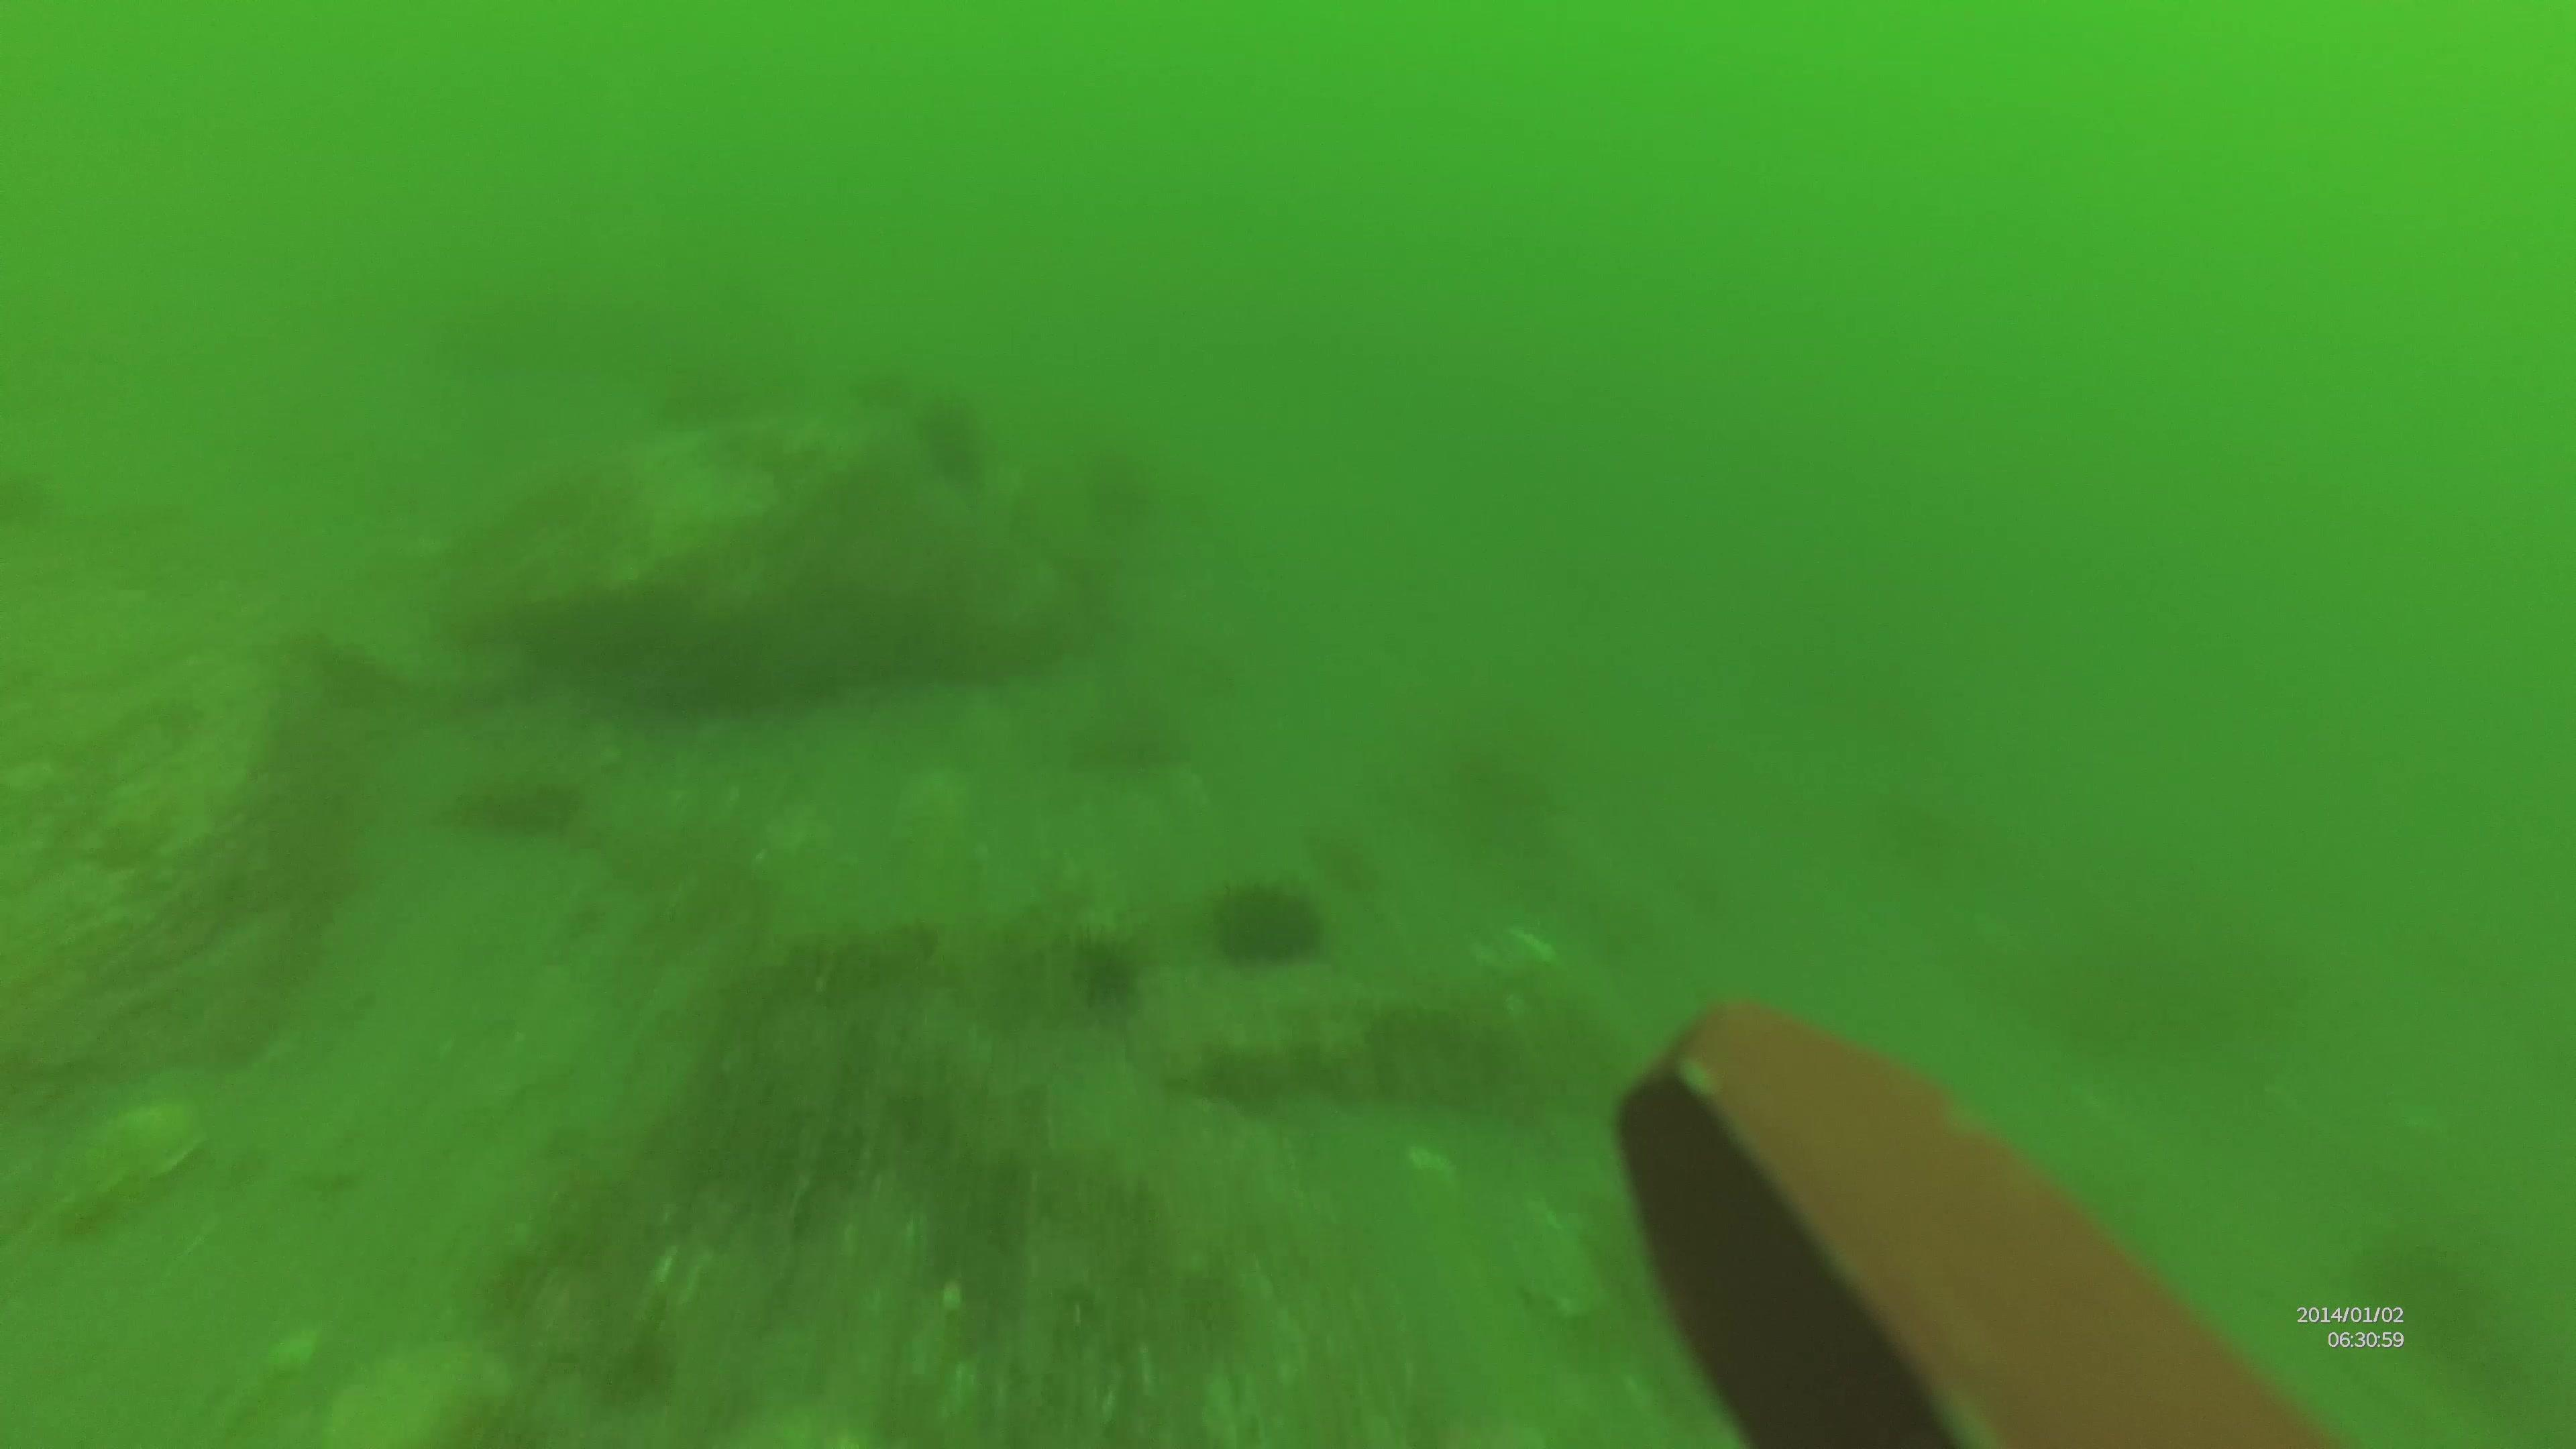echinus: (1200, 872, 1334, 987), (1053, 924, 1136, 1010)
